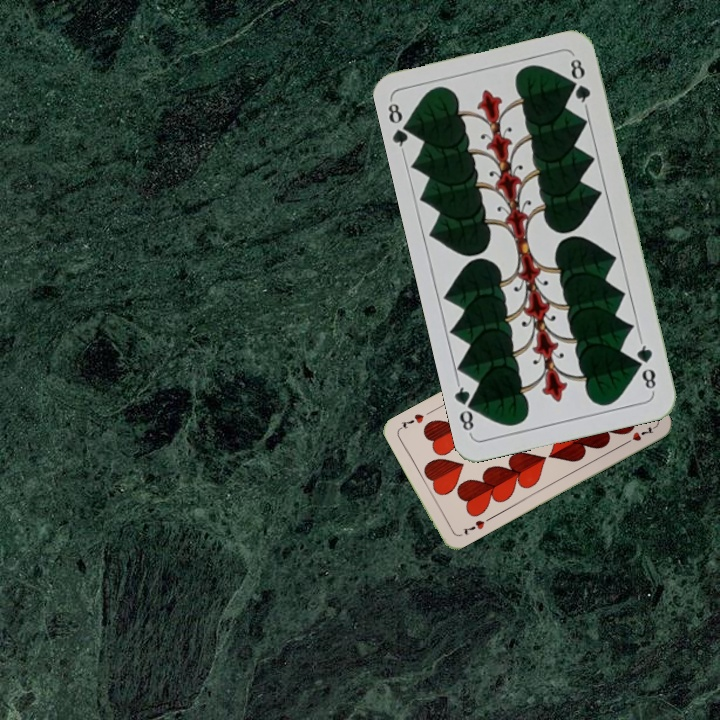G8: (383, 97, 417, 155), (632, 336, 659, 395)
H7: (458, 516, 487, 538)
